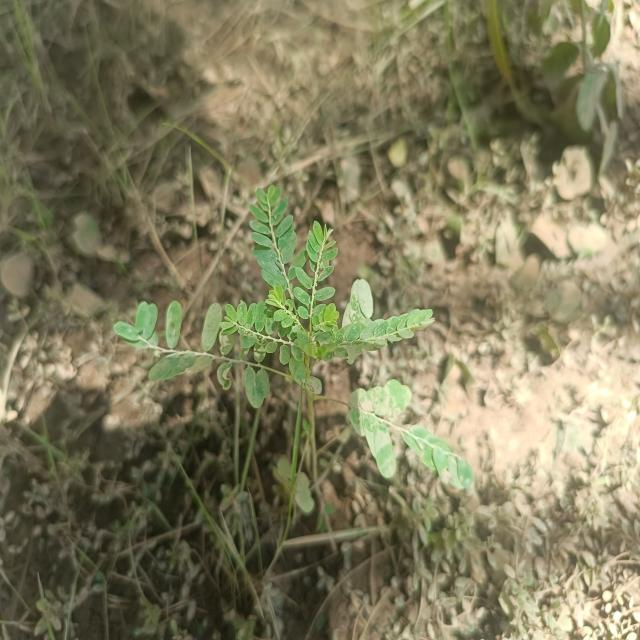weed: (109, 185, 451, 499)
